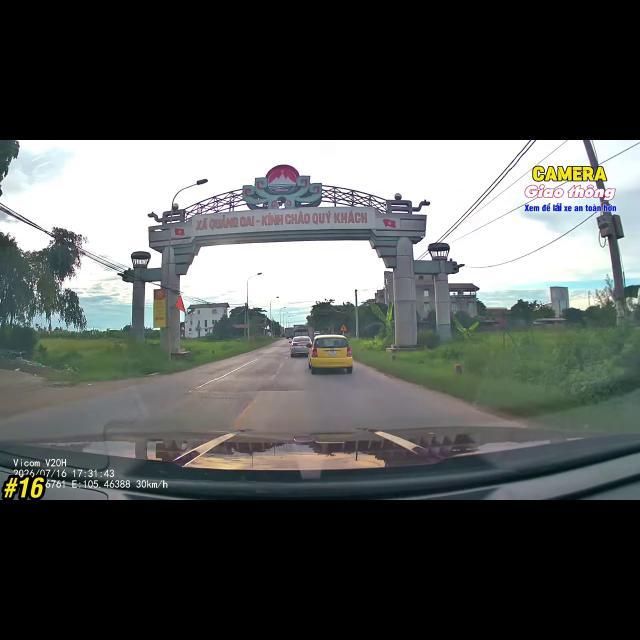car: (308, 335, 353, 373), (289, 336, 311, 357), (313, 331, 320, 337)
truck: (294, 324, 313, 339), (284, 328, 293, 338)
